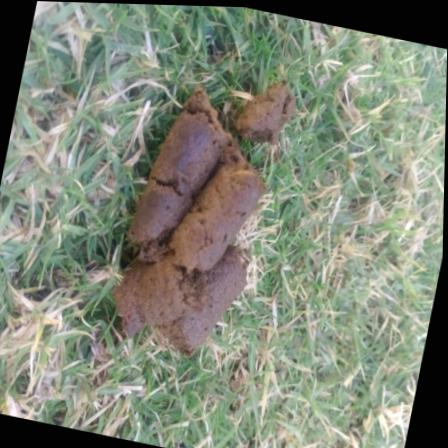dog-poop: (92, 49, 305, 371)
